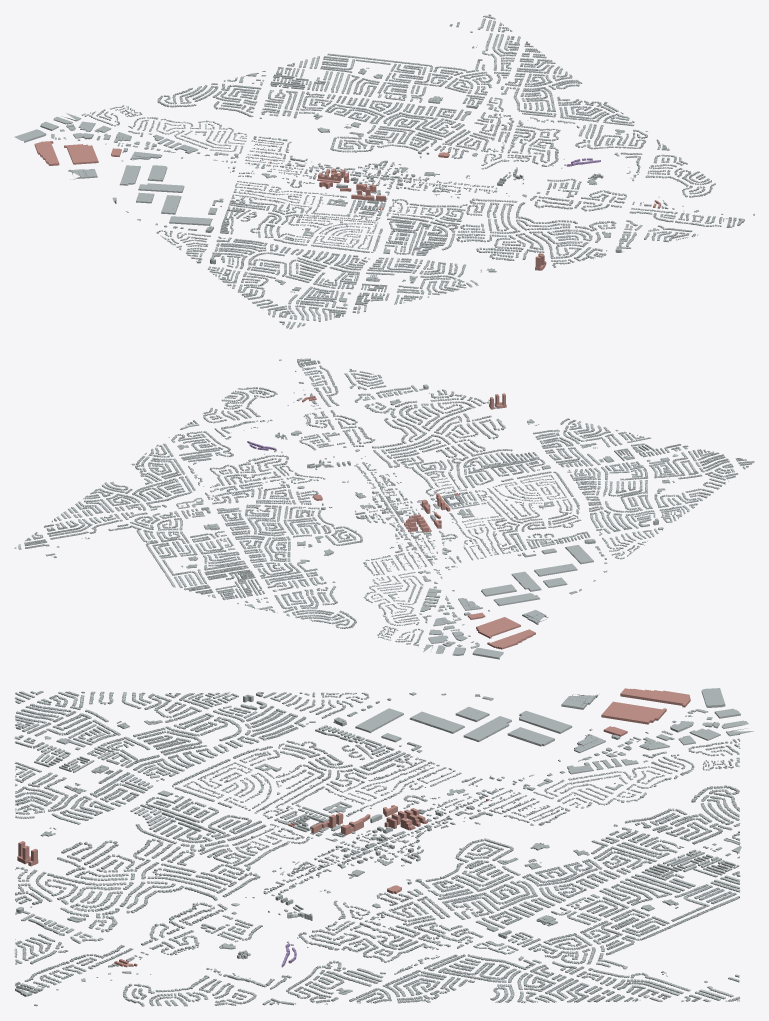
The model's file is streetsville.glb.
3 views of the same model, one above another, from view 1: azimuth 30°, elevation 25°; view 2: azimuth 150°, elevation 25°; view 3: azimuth 270°, elevation 25° (orthographic). The views are drawn at different scales.
Visible parts, largest first — view 1: existing-12, existing-22, existing-23, existing-13, existing-53, existing-61, 13-11441; view 2: existing-12, existing-22, existing-23, existing-13, existing-53, existing-61, 13-11441; view 3: existing-12, existing-22, existing-23, existing-13, existing-53, existing-61, 13-11441, 13-11442.
Boxes of the visible parts, left/top/right/bottom form: existing-12: left=207, top=162, right=621, bottom=329; existing-22: left=245, top=14, right=647, bottom=203; existing-23: left=14, top=71, right=266, bottom=158; existing-13: left=68, top=148, right=236, bottom=263; existing-53: left=615, top=208, right=744, bottom=252; existing-61: left=632, top=154, right=754, bottom=215; 13-11441: left=64, top=144, right=98, bottom=164; existing-12: left=330, top=389, right=754, bottom=565; existing-22: left=14, top=411, right=427, bottom=600; existing-23: left=237, top=570, right=503, bottom=659; existing-13: left=433, top=527, right=663, bottom=624; existing-53: left=297, top=358, right=428, bottom=406; existing-61: left=203, top=359, right=321, bottom=423; 13-11441: left=476, top=617, right=520, bottom=638; existing-12: left=14, top=691, right=504, bottom=945; existing-22: left=149, top=789, right=740, bottom=1004; existing-23: left=523, top=688, right=754, bottom=858; existing-13: left=256, top=691, right=620, bottom=785; existing-53: left=14, top=907, right=133, bottom=996; existing-61: left=34, top=952, right=256, bottom=1006; 13-11441: left=601, top=701, right=666, bottom=724; 13-11442: left=620, top=688, right=690, bottom=707.
Bounding box in the file's own units: 4293 × 146 × 4296.
